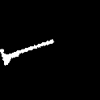half_double_crochet: (0, 40, 53, 64)
